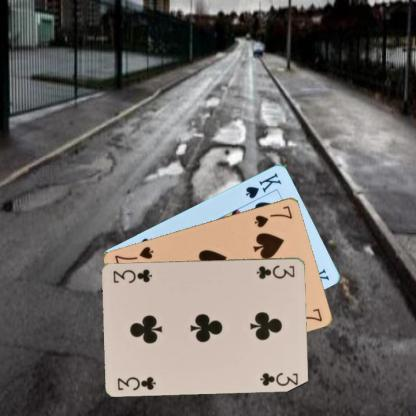3c: (254, 262, 296, 280), (115, 374, 157, 391)
7s: (251, 202, 294, 229)
Ks: (243, 170, 283, 199)
